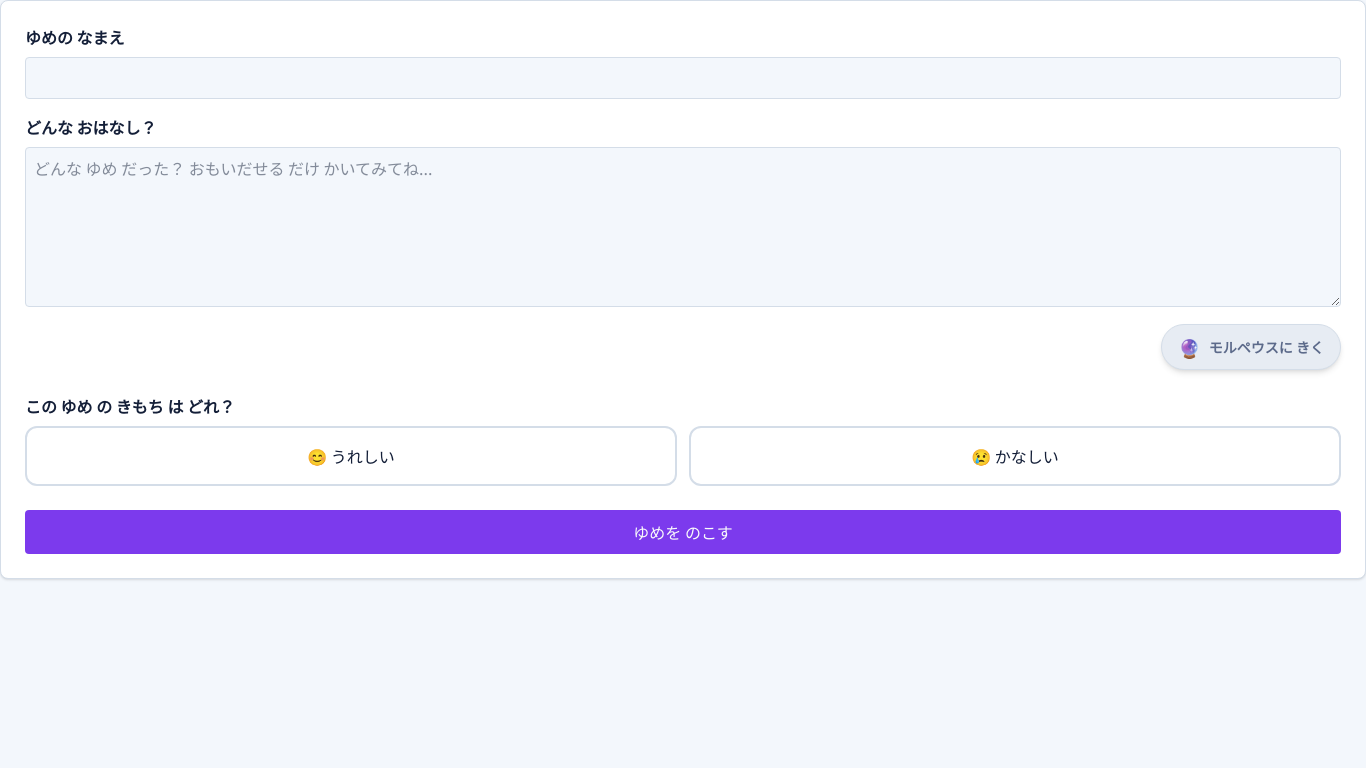
Scenario: DreamForm › loads emotions and toggles selection
This screenshot has width=1366, height=768.
Expected: the checkbox labelled "😢 かなしい" is shown, [689, 426, 1341, 486]
Expected: the checkbox labelled "😊 うれしい" is not checked, [25, 426, 677, 486]
Click the text "😊 うれしい". click: (351, 456)
box: [307, 444, 395, 468]
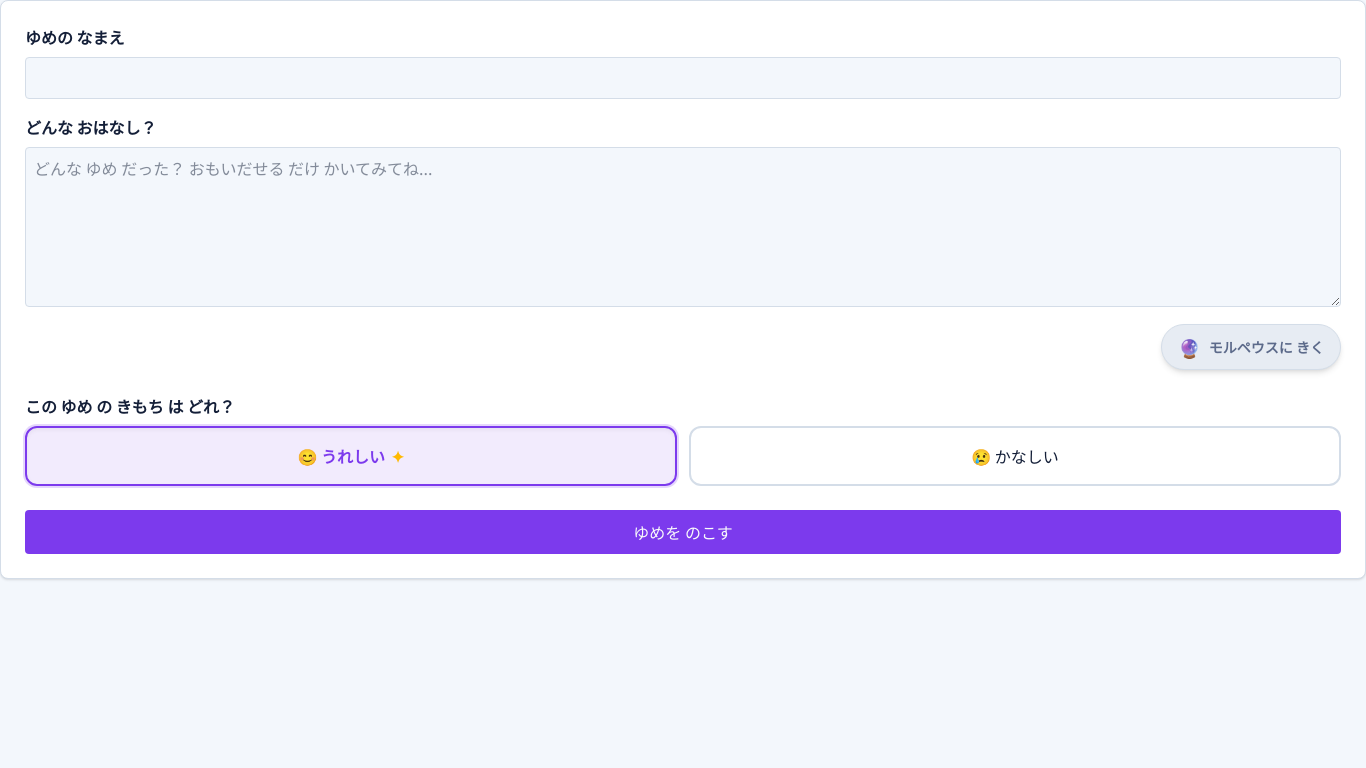
Expected: the checkbox labelled "😊 うれしい" is checked, [25, 426, 677, 486]
Click the text "😊 うれしい". click: (351, 456)
box: [298, 444, 404, 468]
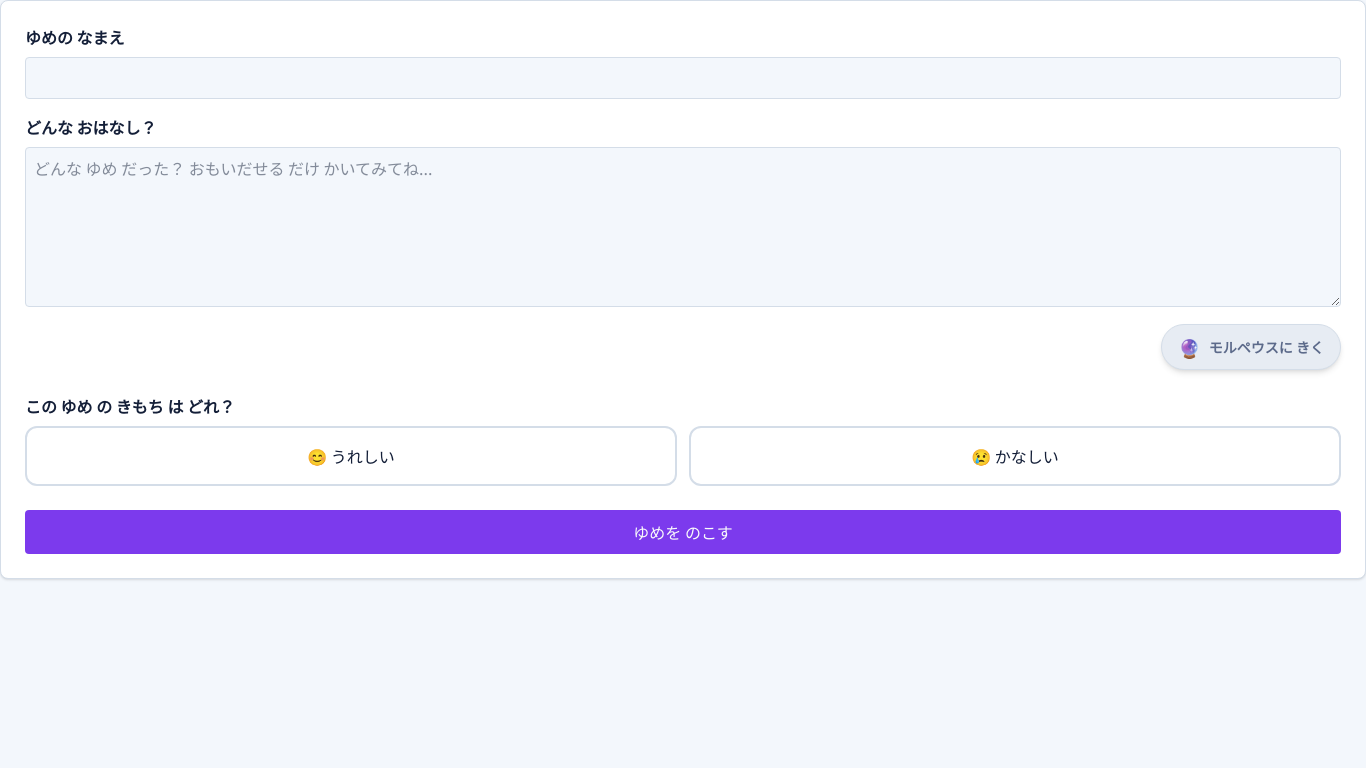
Expected: the checkbox labelled "😊 うれしい" is not checked, [25, 426, 677, 486]
